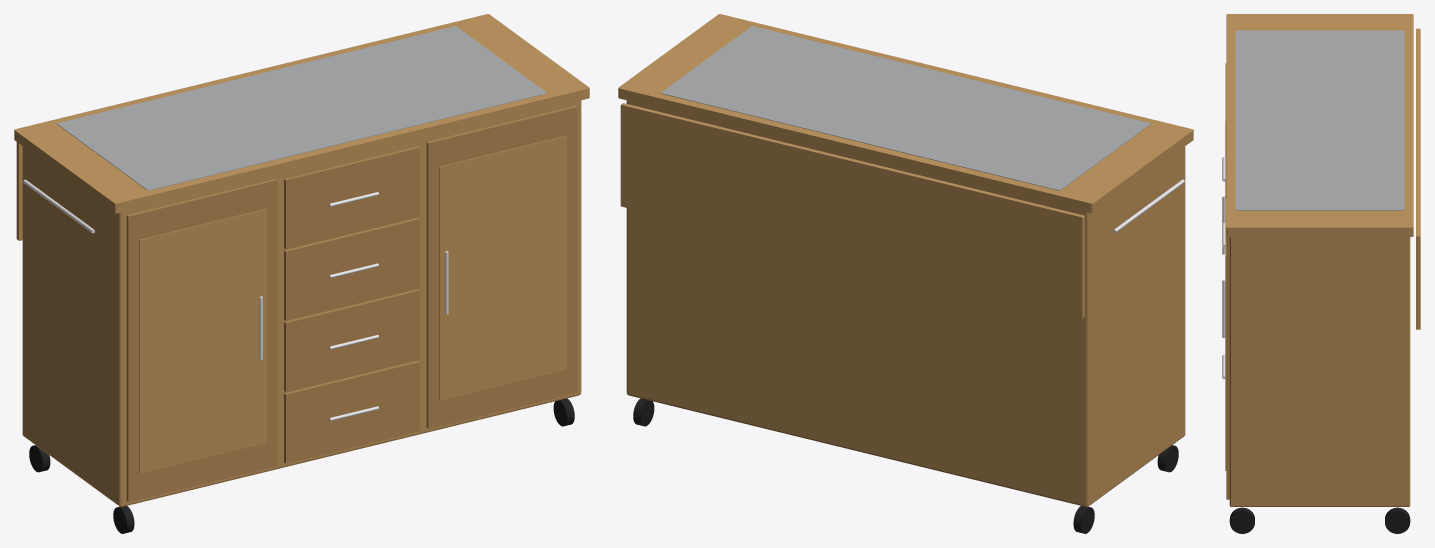
Rendered from fold_out_island_candidate.glb.
The picture shows the model from 3 angles, left to right: view 1: azimuth 30°, elevation 25°; view 2: azimuth 150°, elevation 25°; view 3: azimuth 270°, elevation 25°; orthographic projection. The views are drawn at different scales.
Parts seen in each view (by area): view 1: Cube.002, Cube.001, Cube.010, Cube.008, Cube, Cube.007, Cube.009, Cube.006, Cube.003, Cube.004, Cube.005, Cube.011; view 2: Cube.002, Cube.011, Cube.001, Cube; view 3: Cube.002, Cube.001, Cube, Cube.011, Cube.009, Cylinder.009, Cylinder.010, Cube.010, Cube.008.
Boxes of the visible parts, x1,y1,x2,y2 form: Cube.002: (22,100,581,506); Cube.001: (56,26,547,190); Cube.010: (439,136,566,400); Cube.008: (139,209,266,473); Cube: (14,14,589,213); Cube.007: (126,179,277,501); Cube.009: (426,106,577,428); Cube.006: (284,146,419,249); Cube.003: (284,361,419,463); Cube.004: (284,289,419,392); Cube.005: (284,218,419,320); Cube.011: (16,142,22,240); Cube.002: (626,100,1185,506); Cube.011: (620,103,1084,318); Cube.001: (660,26,1151,190); Cube: (618,14,1193,213); Cube.002: (1229,237,1410,506); Cube.001: (1235,30,1404,210); Cube: (1226,14,1413,236); Cube.011: (1416,28,1420,329); Cube.009: (1226,236,1229,499); Cylinder.009: (1229,507,1254,533); Cylinder.010: (1385,507,1410,533); Cube.010: (1225,198,1226,470); Cube.008: (1225,63,1226,198).
Bounding box in the file's own units: 1.36 × 0.9159 × 0.5255.
